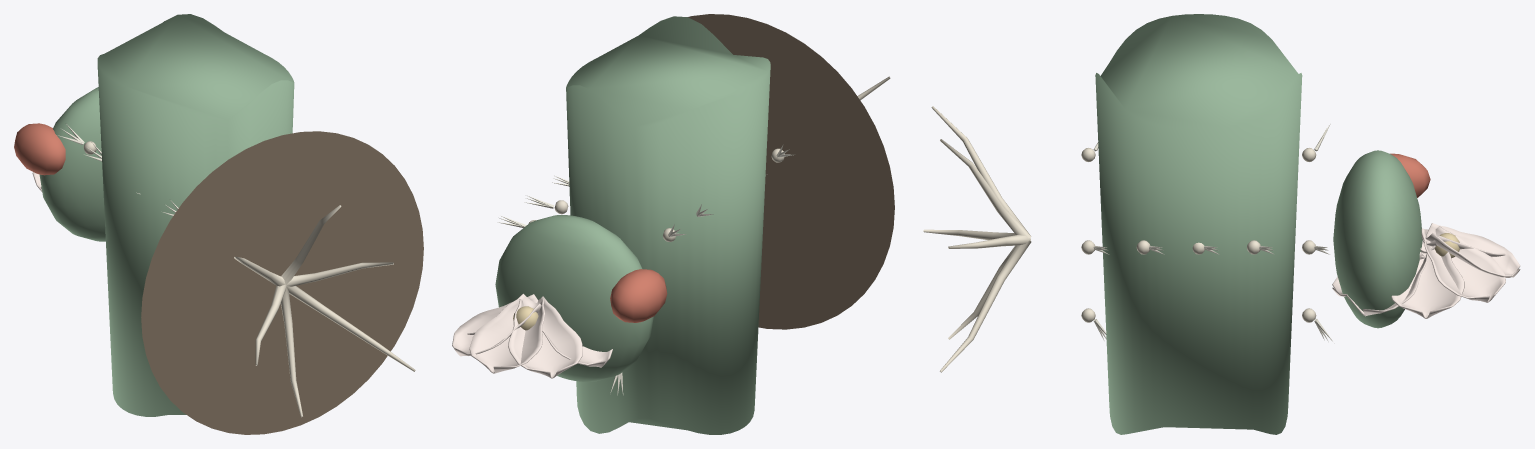
Rendered from cactus.glb.
The picture shows the model from 3 angles, left to right: view 1: azimuth 30°, elevation 25°; view 2: azimuth 150°, elevation 25°; view 3: azimuth 270°, elevation 25°; orthographic projection. The views are drawn at different scales.
Parts seen in each view (by area): view 1: Part_Soil__soil, Part_Stem__column, Part_Stem__cap, Part_Fruit__fruit, Part_Roots__rt5, Part_Roots__rt4, Part_Roots__rt0, Part_Roots__rt1, Part_Roots__rt3, Part_Roots__rt2; view 2: Part_Stem__column, Part_Soil__soil, Part_Stem__cap, Part_Flower__fpet0, Part_Flower__fpet1, Part_Fruit__fruit, Part_Flower__fpet7, Part_Flower__fpet2; view 3: Part_Stem__column, Part_Stem__cap, Part_Flower__fpet7, Part_Flower__fpet6, Part_Flower__fpet0, Part_Roots__rt5, Part_Roots__rt1, Part_Roots__rt2, Part_Fruit__fruit, Part_Roots__rt0.
Boxes of the visible parts, box(x1,y1,x2,y2) form: Part_Soil__soil: box(141, 131, 423, 434); Part_Stem__column: box(97, 14, 294, 416); Part_Stem__cap: box(39, 87, 105, 241); Part_Fruit__fruit: box(14, 123, 65, 175); Part_Roots__rt5: box(286, 286, 415, 371); Part_Roots__rt4: box(280, 287, 302, 417); Part_Roots__rt0: box(286, 262, 393, 286); Part_Roots__rt1: box(281, 205, 341, 284); Part_Roots__rt3: box(255, 284, 286, 365); Part_Roots__rt2: box(234, 256, 285, 286); Part_Stem__column: box(566, 16, 770, 434); Part_Soil__soil: box(688, 14, 894, 329); Part_Stem__cap: box(495, 215, 653, 381); Part_Flower__fpet0: box(469, 293, 544, 373); Part_Flower__fpet1: box(508, 296, 582, 378); Part_Fruit__fruit: box(610, 269, 667, 322); Part_Flower__fpet7: box(452, 294, 541, 356); Part_Flower__fpet2: box(542, 330, 612, 367); Part_Stem__column: box(1095, 14, 1302, 434); Part_Stem__cap: box(1333, 150, 1422, 328); Part_Flower__fpet7: box(1421, 226, 1505, 302); Part_Flower__fpet6: box(1391, 236, 1464, 318); Part_Flower__fpet0: box(1425, 223, 1520, 277); Part_Roots__rt5: box(940, 240, 1031, 372); Part_Roots__rt1: box(940, 139, 1030, 238); Part_Roots__rt2: box(931, 106, 1030, 235); Part_Fruit__fruit: box(1390, 153, 1430, 197); Part_Roots__rt0: box(948, 235, 1030, 248).
Size of the model in its own units: 1 by 1.14 by 1.73.
